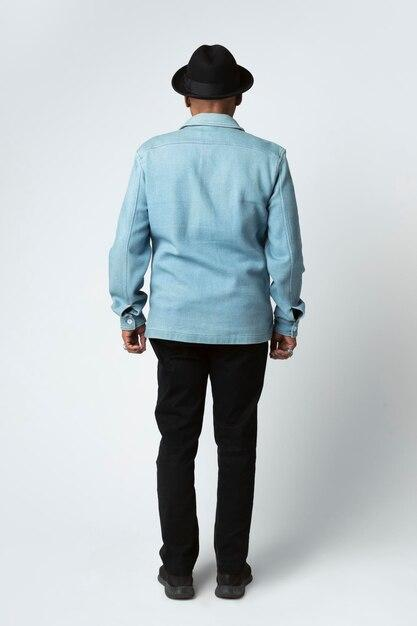Human: (107, 37, 322, 624)
